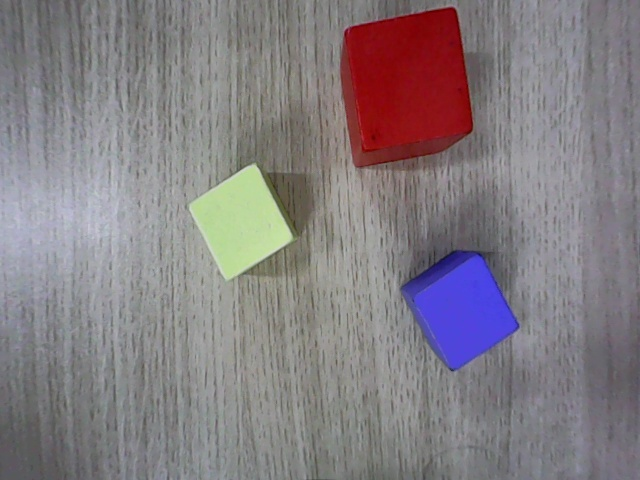upside of big cube: (342, 5, 474, 152)
upside of small cube: (186, 161, 294, 283), (413, 253, 520, 372)
